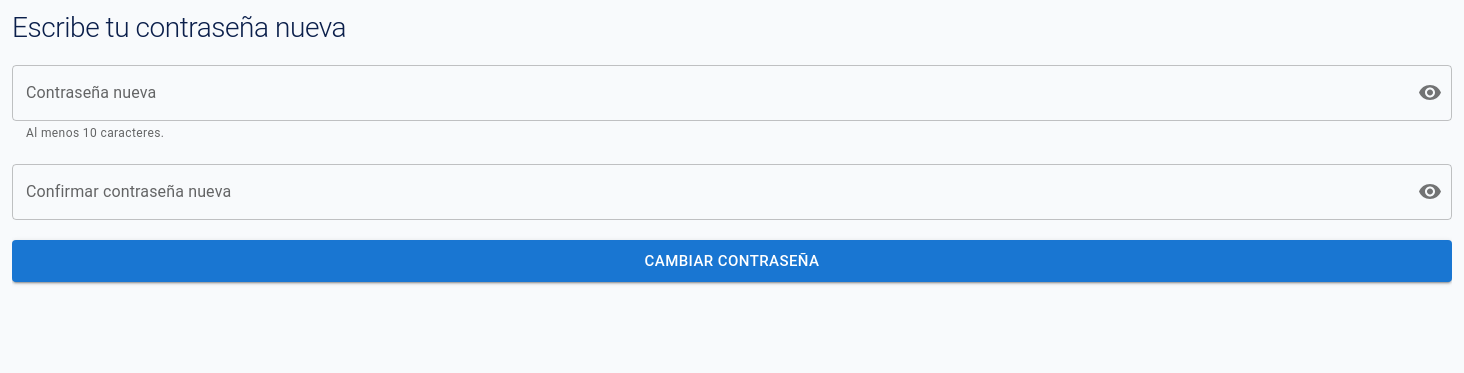
FormularioRestablecer › las reglas de la contraseña se revisan antes de enviar
In the password field labelled "Contraseña nueva": (707, 93) [12, 65, 1402, 121], type "corta1"
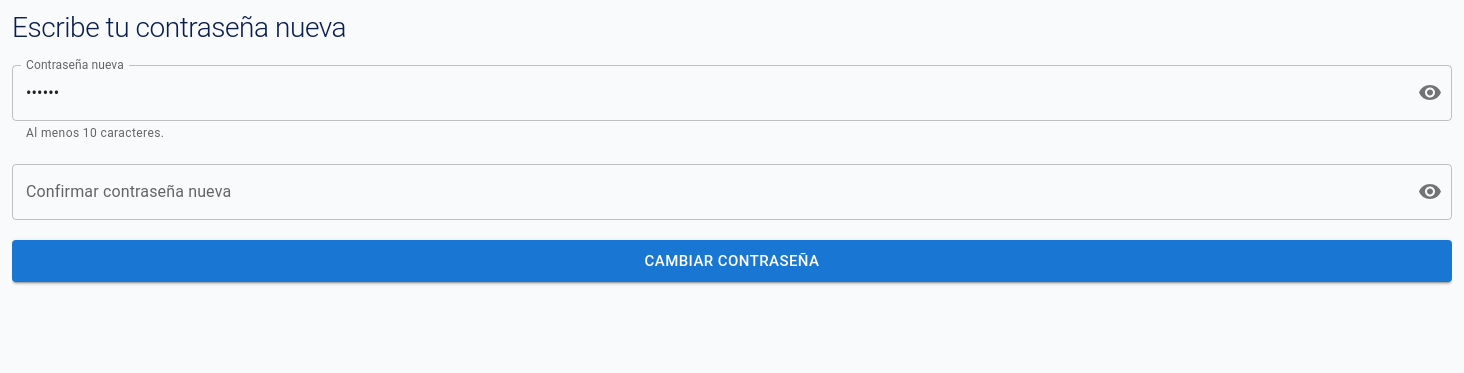
In the password field labelled "Confirmar contraseña nueva": (707, 192) [12, 164, 1402, 220], type "otra"
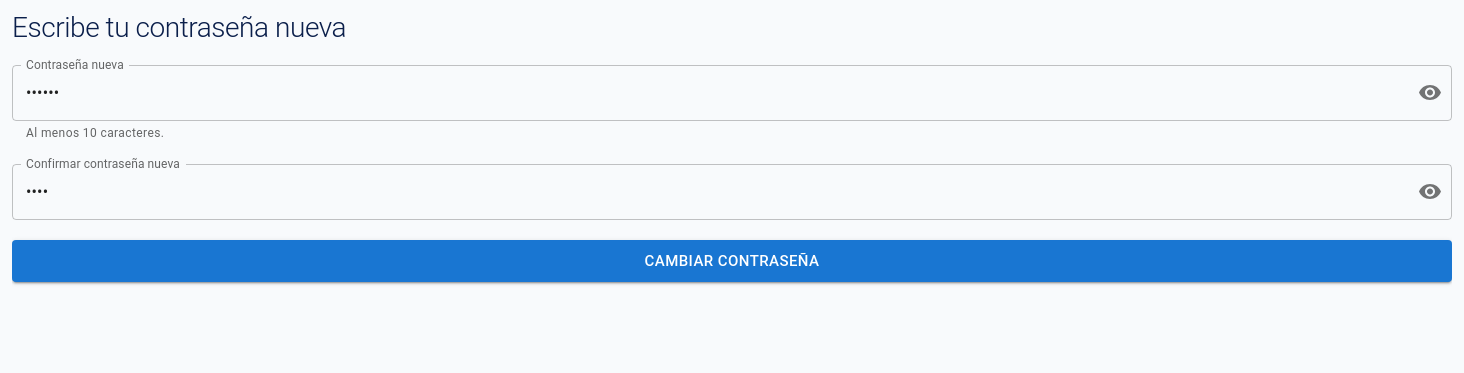
Submit the form named "Cambiar contraseña"
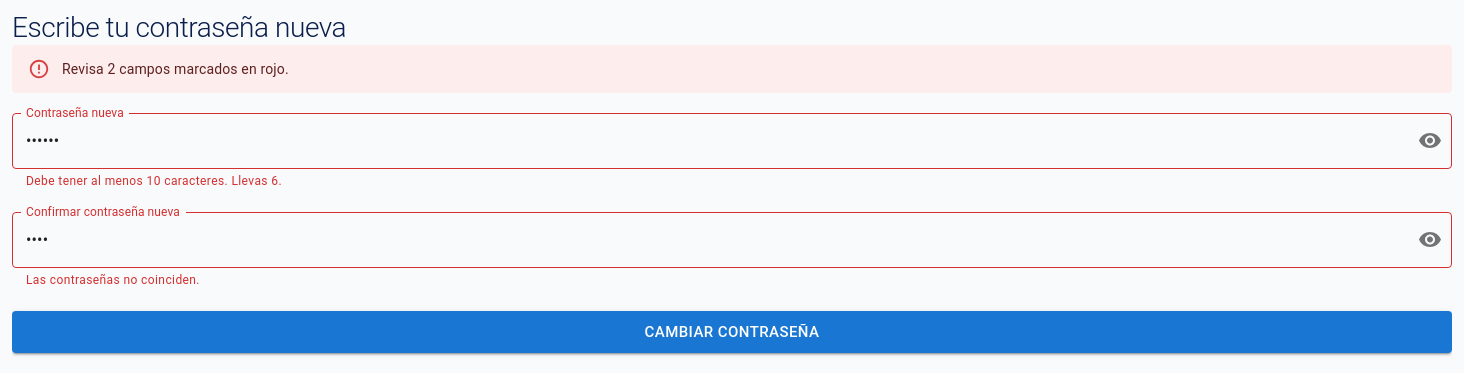
expect the text "Debe tener al menos 10 caracteres. Llevas 6." is shown: met, box [26, 174, 282, 188]
expect the text "Las contraseñas no coinciden." is shown: met, box [26, 273, 200, 287]
expect the message reads "Revisa 2 campos marcados en rojo.": met, box [62, 61, 289, 77]
